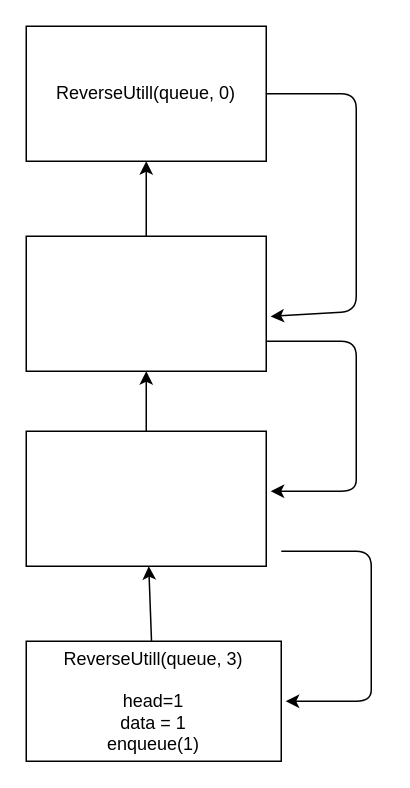
The diagram is 410 pixels wide and 788 high, and some of its shapes have lost their labels. The centre of each missing label's shape, as x and y in pixels:
ReverseUtill(queue, 1) head=3 data = 3 enqueue(3): point 145,303
ReverseUtill(queue, 2) head=2 data = 2 enqueue(2): point 145,498
